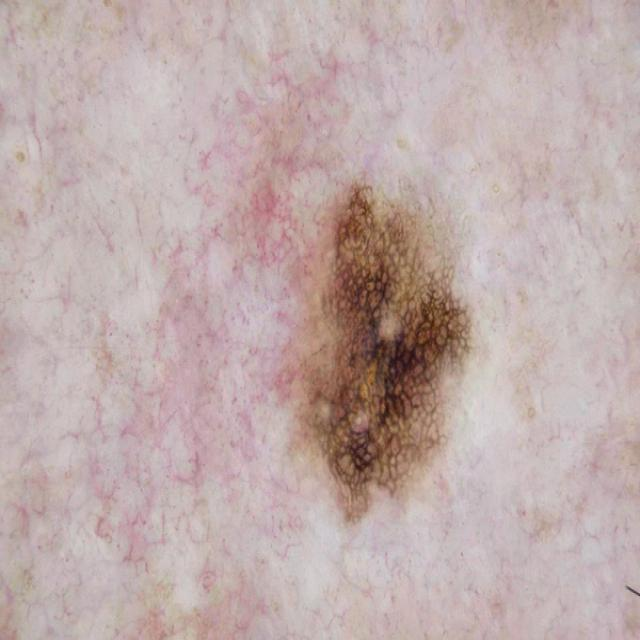Benign-Keratosis-like-Lesions-BKL-: (312, 185, 470, 520)
